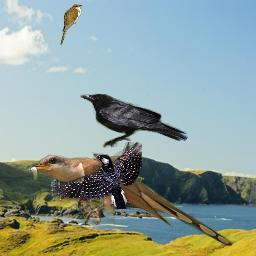Crow: (80, 93, 188, 148)
Cuckoo: (25, 154, 234, 247), (60, 4, 82, 45)
Woodpecker: (51, 142, 142, 209)
